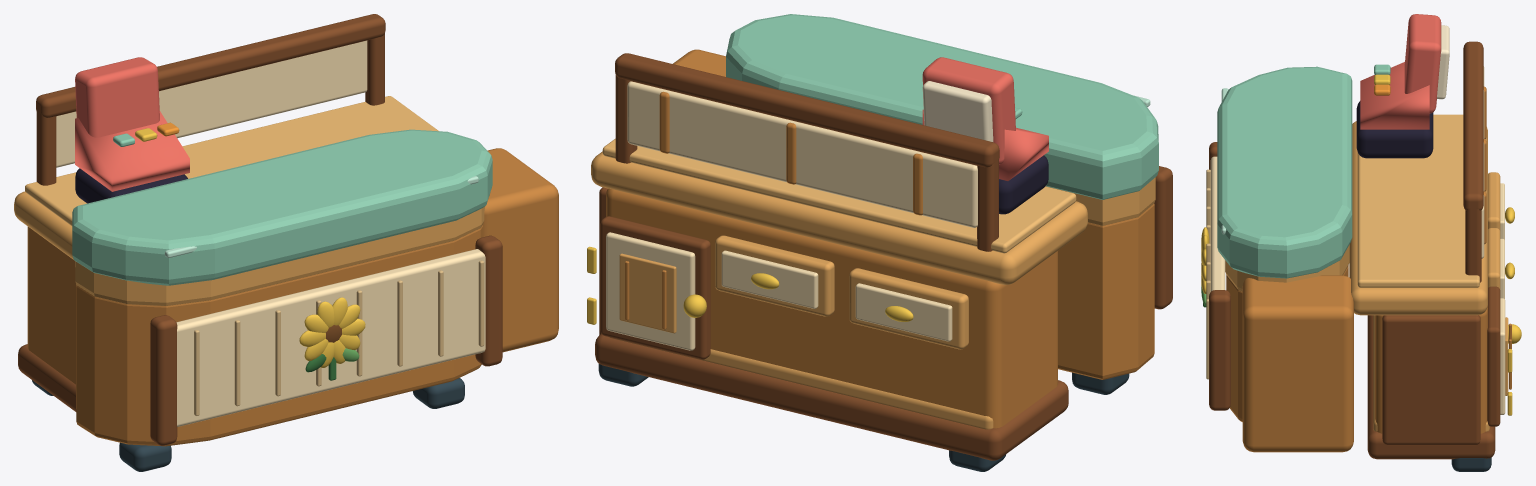
File: service-counter.glb
The picture shows the model from 3 angles, left to right: view 1: azimuth 30°, elevation 25°; view 2: azimuth 150°, elevation 25°; view 3: azimuth 270°, elevation 25°; orthographic projection. The views are drawn at different scales.
Visible parts, largest first — view 1: service-ledge-surface-0, rounded-counter-body-surface-2, rounded-counter-body-surface-0, finished-backside-surface-6, parcel-shelf-surface-0, worktop-surface-2, worktop-surface-4, finished-backside-surface-4, rear-storage-surface-0, register-surface-4, register-surface-2, rounded-counter-body-surface-4 (+10 smaller); view 2: rear-storage-surface-0, service-ledge-surface-0, finished-backside-surface-6, worktop-surface-0, rear-storage-surface-10, rounded-counter-body-surface-0, finished-backside-surface-4, worktop-surface-2, cabinet-door-surface-2, cabinet-door-surface-0, rear-storage-surface-12, cabinet-door-surface-4 (+19 smaller); view 3: service-ledge-surface-0, parcel-shelf-surface-0, worktop-surface-2, rear-storage-surface-8, worktop-surface-0, finished-backside-surface-4, register-surface-2, rear-storage-surface-10, register-surface-4, rounded-counter-body-surface-6, register-surface-0, cabinet-door-surface-0 (+11 smaller).
Boxes of the visible parts, left/top/right/bottom form: service-ledge-surface-0: left=72, top=129, right=492, bottom=285; rounded-counter-body-surface-2: left=176, top=249, right=485, bottom=426; rounded-counter-body-surface-0: left=76, top=225, right=482, bottom=446; finished-backside-surface-6: left=56, top=40, right=367, bottom=167; parcel-shelf-surface-0: left=483, top=148, right=558, bottom=352; worktop-surface-2: left=25, top=96, right=438, bottom=225; worktop-surface-4: left=75, top=194, right=489, bottom=305; finished-backside-surface-4: left=36, top=14, right=385, bottom=117; rear-storage-surface-0: left=27, top=226, right=75, bottom=384; register-surface-4: left=75, top=57, right=159, bottom=137; register-surface-2: left=75, top=111, right=189, bottom=191; rounded-counter-body-surface-4: left=150, top=315, right=177, bottom=445; rear-storage-surface-0: left=606, top=188, right=1057, bottom=428; service-ledge-surface-0: left=726, top=14, right=1158, bottom=199; finished-backside-surface-6: left=627, top=81, right=977, bottom=227; worktop-surface-0: left=591, top=151, right=1087, bottom=284; rear-storage-surface-10: left=595, top=334, right=1068, bottom=460; rounded-counter-body-surface-0: left=1058, top=203, right=1154, bottom=379; finished-backside-surface-4: left=615, top=53, right=999, bottom=167; worktop-surface-2: left=602, top=138, right=1076, bottom=253; cabinet-door-surface-2: left=606, top=232, right=695, bottom=350; cabinet-door-surface-0: left=600, top=216, right=710, bottom=359; rear-storage-surface-12: left=609, top=337, right=993, bottom=429; cabinet-door-surface-4: left=619, top=253, right=676, bottom=333; service-ledge-surface-0: left=1217, top=66, right=1352, bottom=278; parcel-shelf-surface-0: left=1242, top=275, right=1353, bottom=452; worktop-surface-2: left=1357, top=114, right=1479, bottom=287; rear-storage-surface-8: left=1382, top=315, right=1480, bottom=445; worktop-surface-0: left=1349, top=121, right=1487, bottom=315; finished-backside-surface-4: left=1463, top=41, right=1483, bottom=210; register-surface-2: left=1360, top=62, right=1429, bottom=129; rear-storage-surface-10: left=1367, top=315, right=1495, bottom=459; register-surface-4: left=1404, top=14, right=1441, bottom=113; rounded-counter-body-surface-6: left=1209, top=290, right=1230, bottom=410; register-surface-0: left=1356, top=101, right=1433, bottom=158; cabinet-door-surface-0: left=1487, top=286, right=1500, bottom=426.
Bounding box in the file's own units: 1.75 × 1.23 × 1.16.
